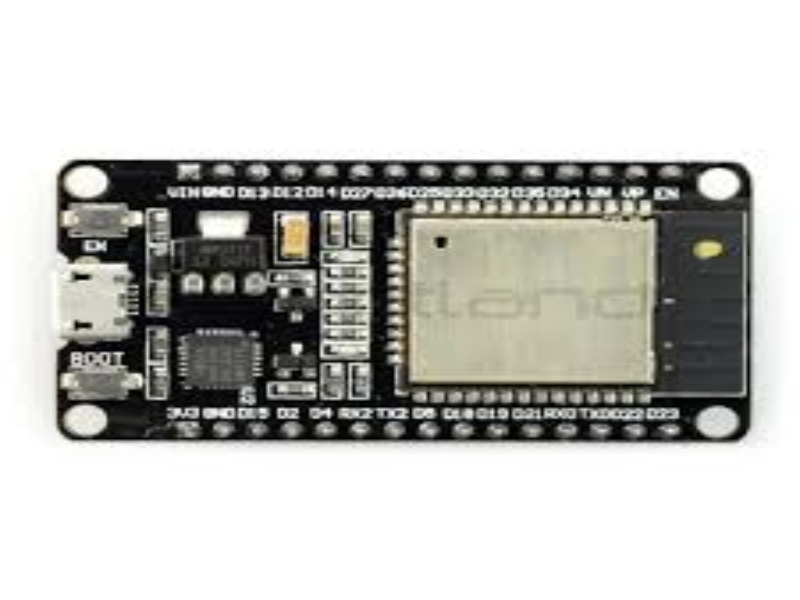esp32: (34, 110, 772, 465)
